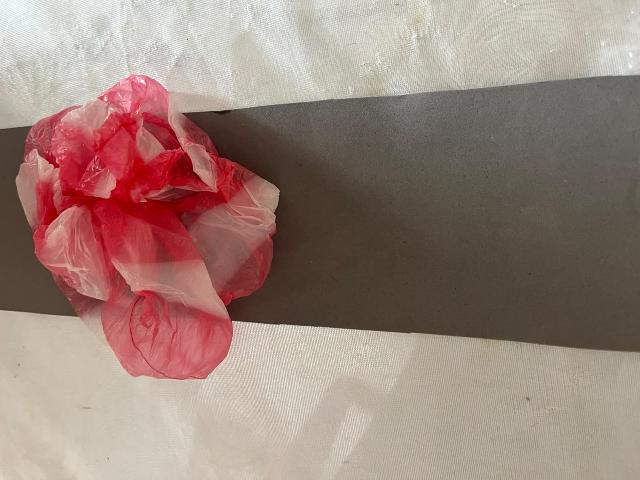LDPE: (0, 70, 301, 417)
